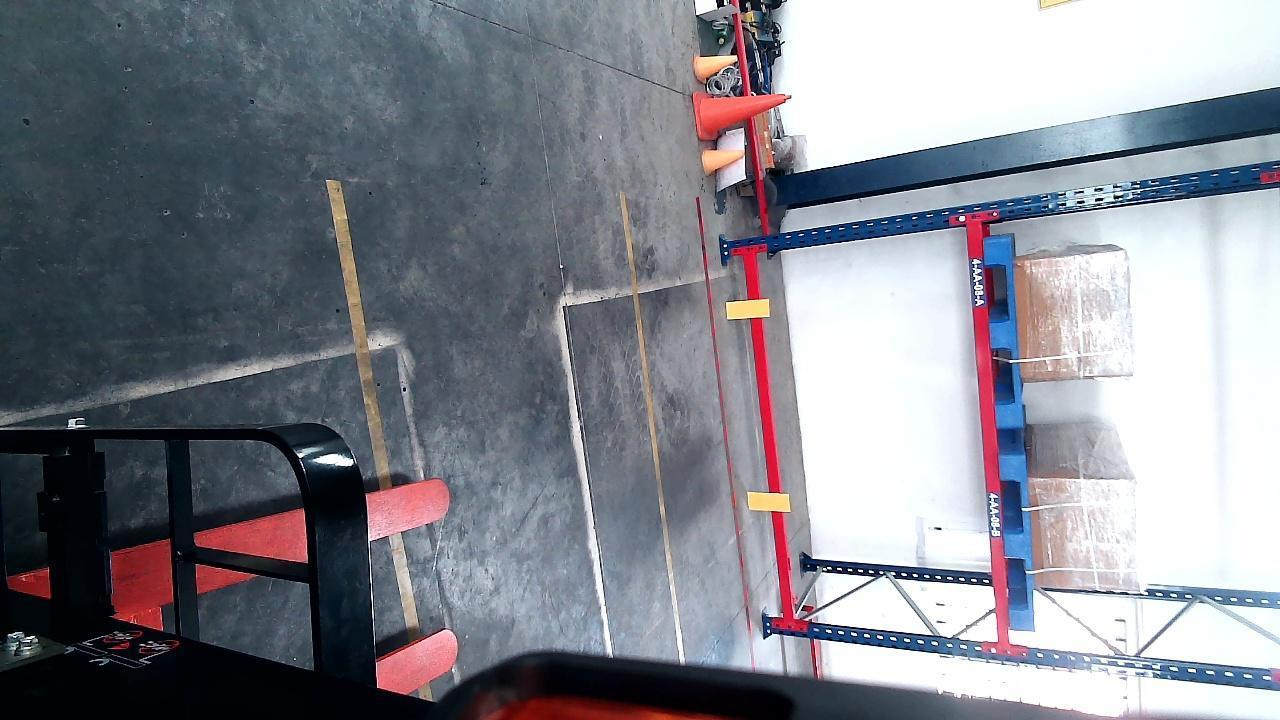h_rack: (739, 245, 797, 635), (963, 211, 1012, 645)
orange_strip: (724, 298, 768, 319), (749, 491, 789, 512)
red_line: (694, 195, 761, 671)
small_pallet: (981, 235, 1024, 431), (1000, 455, 1035, 627)
yellow_line: (326, 178, 420, 635), (612, 190, 692, 671)
